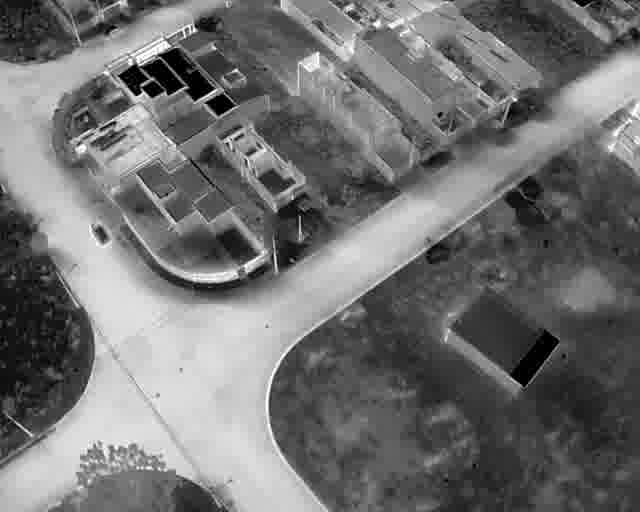car: (456, 412, 495, 428), (457, 144, 488, 160)
